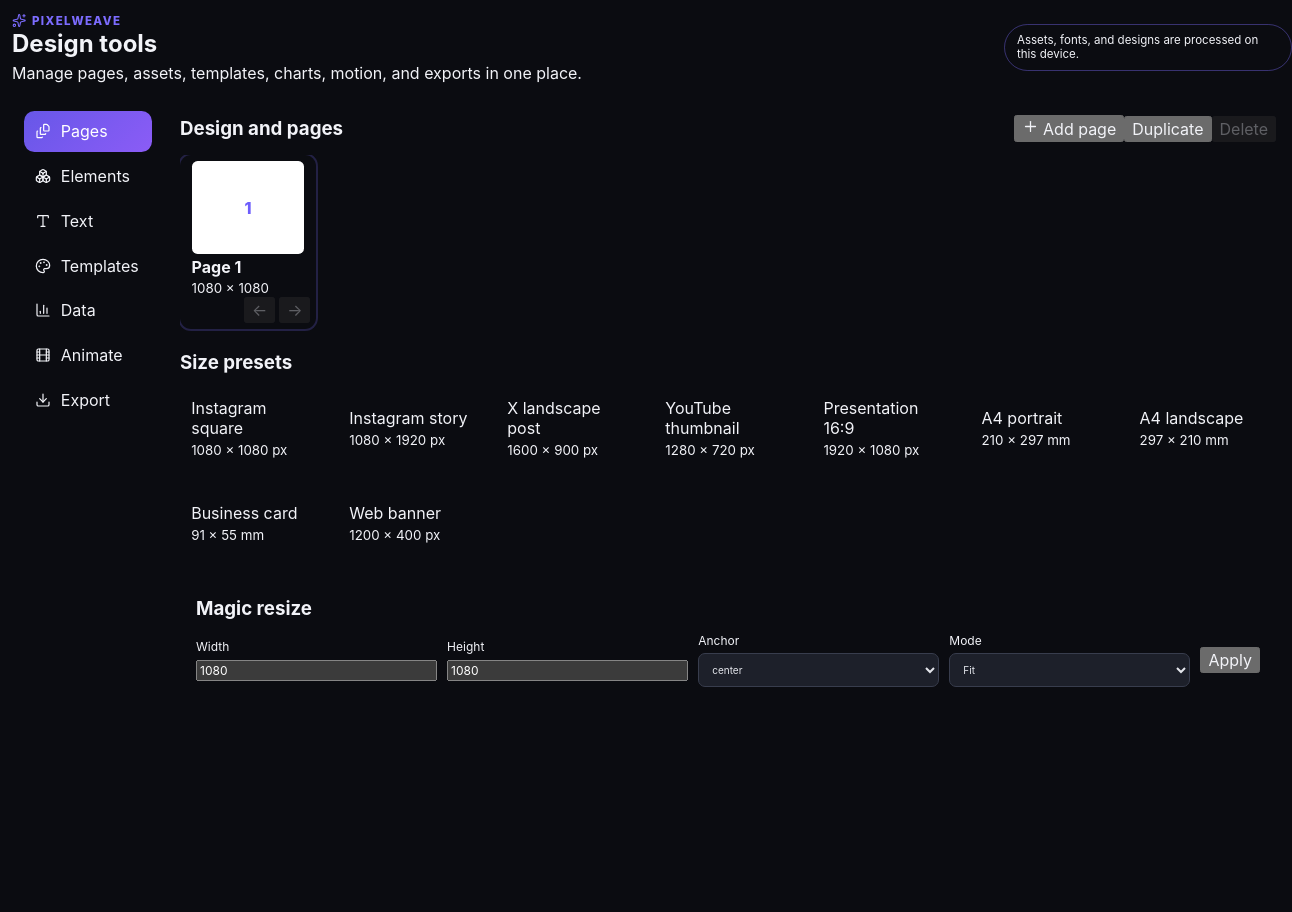
DesignStudioPanel › explains raster PDF output and passes lossless or JPEG quality explicitly
The image size is (1292, 912).
Click the button "Export" at {"x": 88, "y": 400}, box [24,380,152,420]
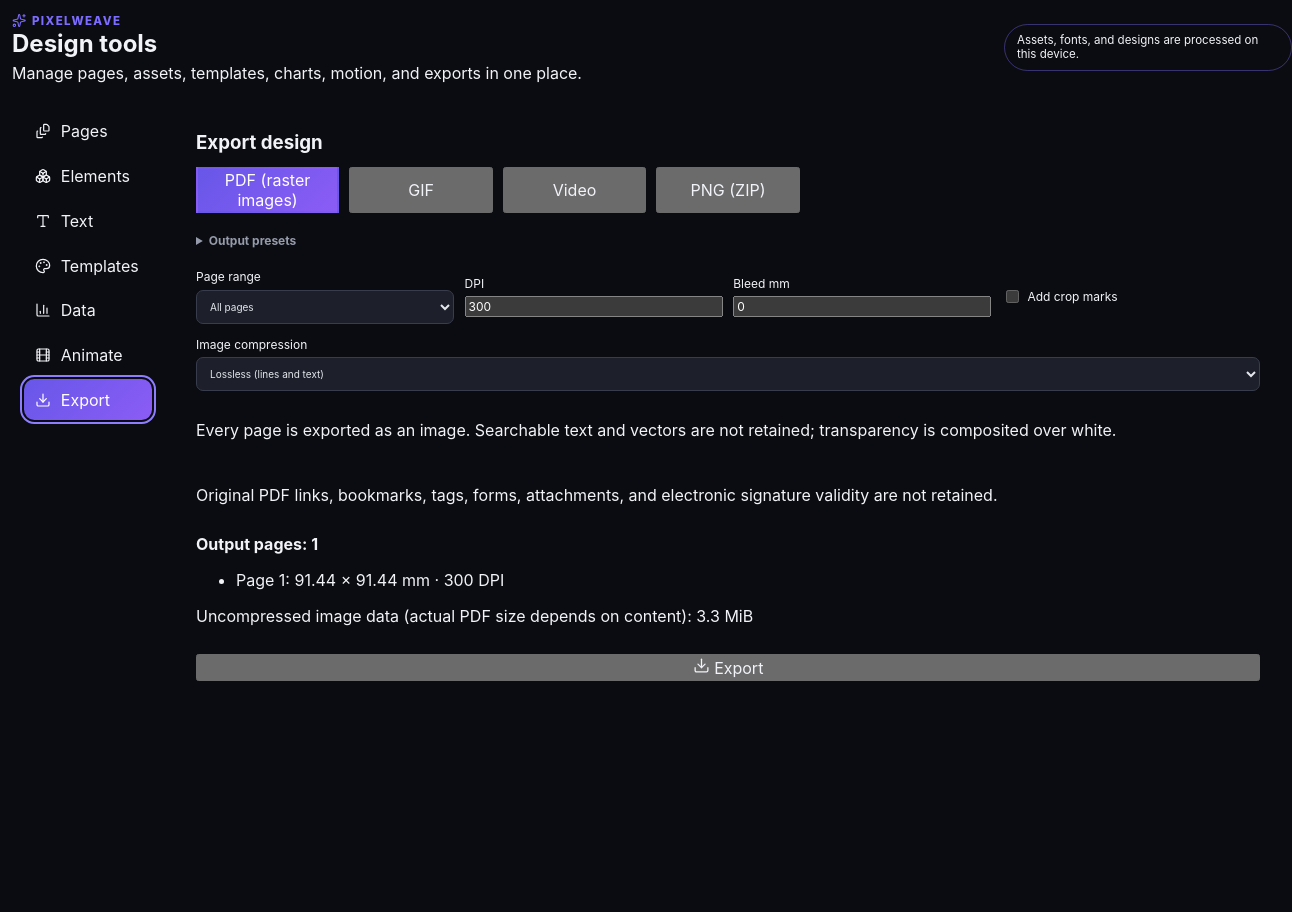
Now the text "Every page is exported as an image" is shown, box [196,420,1116,440]
Now the text "electronic signature validity" is shown, box [196,485,998,505]
Click the button "Export" below "3.3" at {"x": 728, "y": 668}, box [196,654,1260,681]
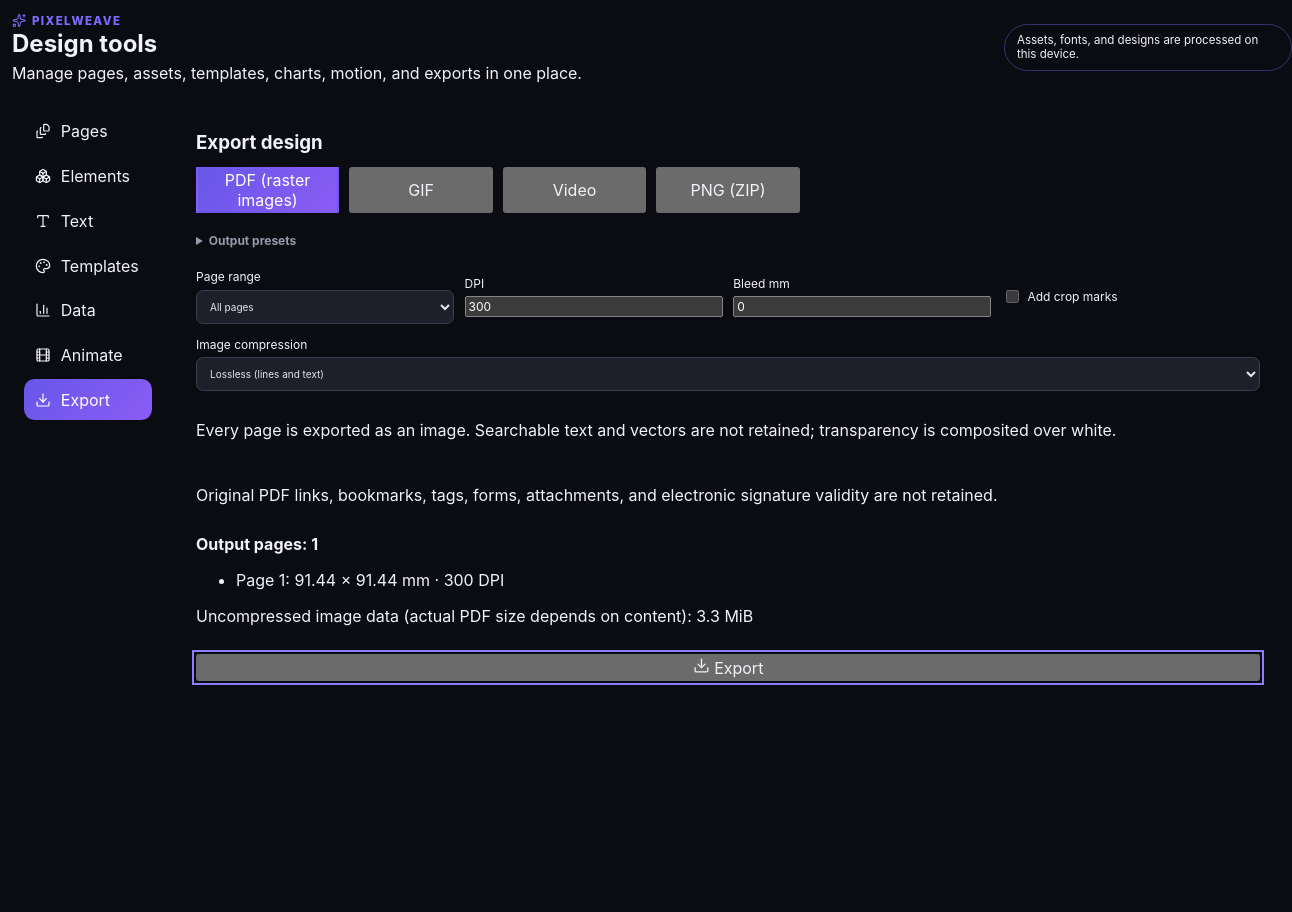
Select "JPEG (photos)" in the dropdown labelled "Image compression" at {"x": 728, "y": 374}, box [196,357,1260,391]
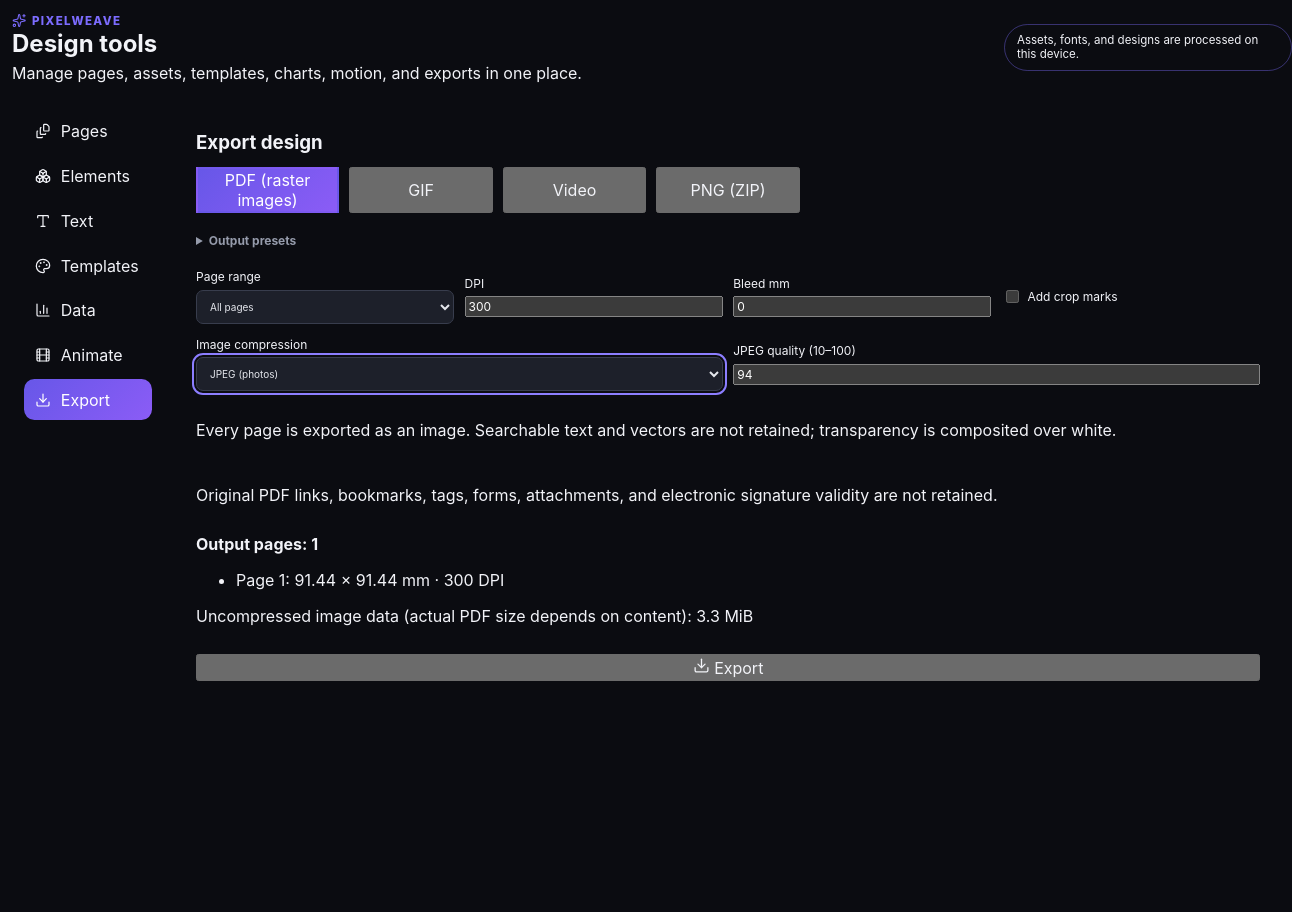
Replace the text in the number field labelled "JPEG quality (10–100)" with "80" at {"x": 997, "y": 374}, box [733,364,1260,385]
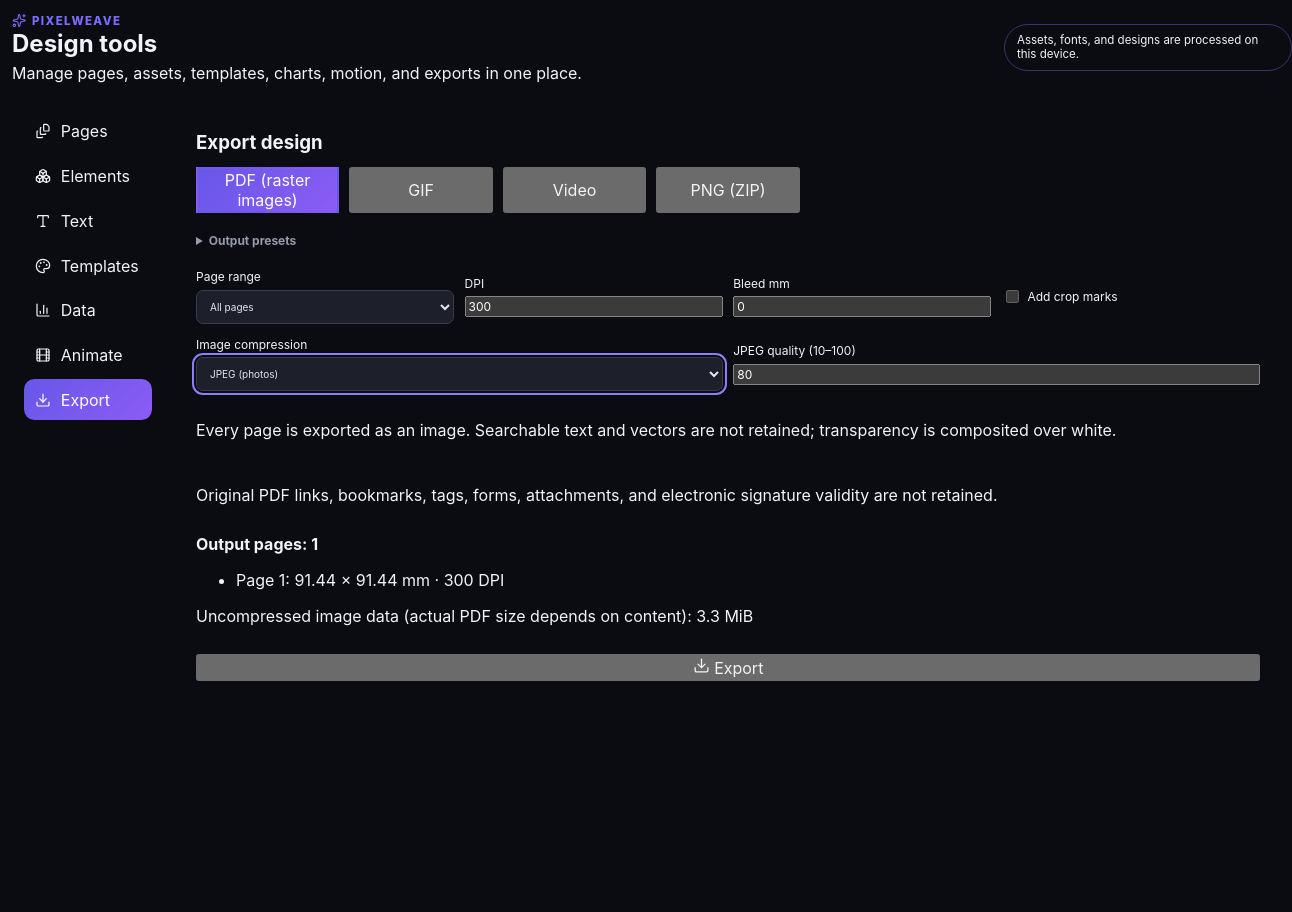
Click the button "Export" below "3.3" at {"x": 728, "y": 668}, box [196,654,1260,681]
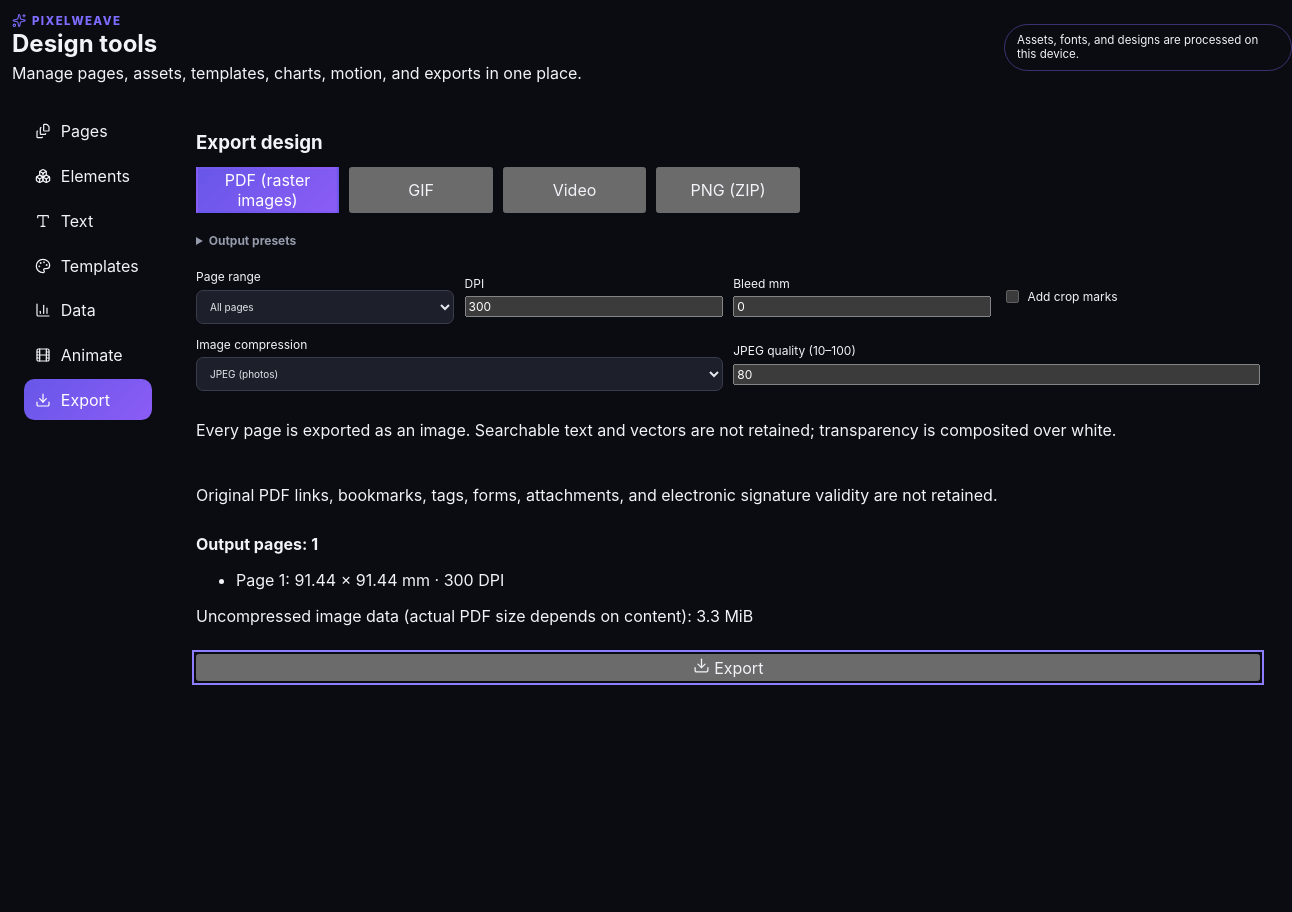
Replace the text in the number field labelled "JPEG quality (10–100)" with "0" at {"x": 997, "y": 374}, box [733,364,1260,385]
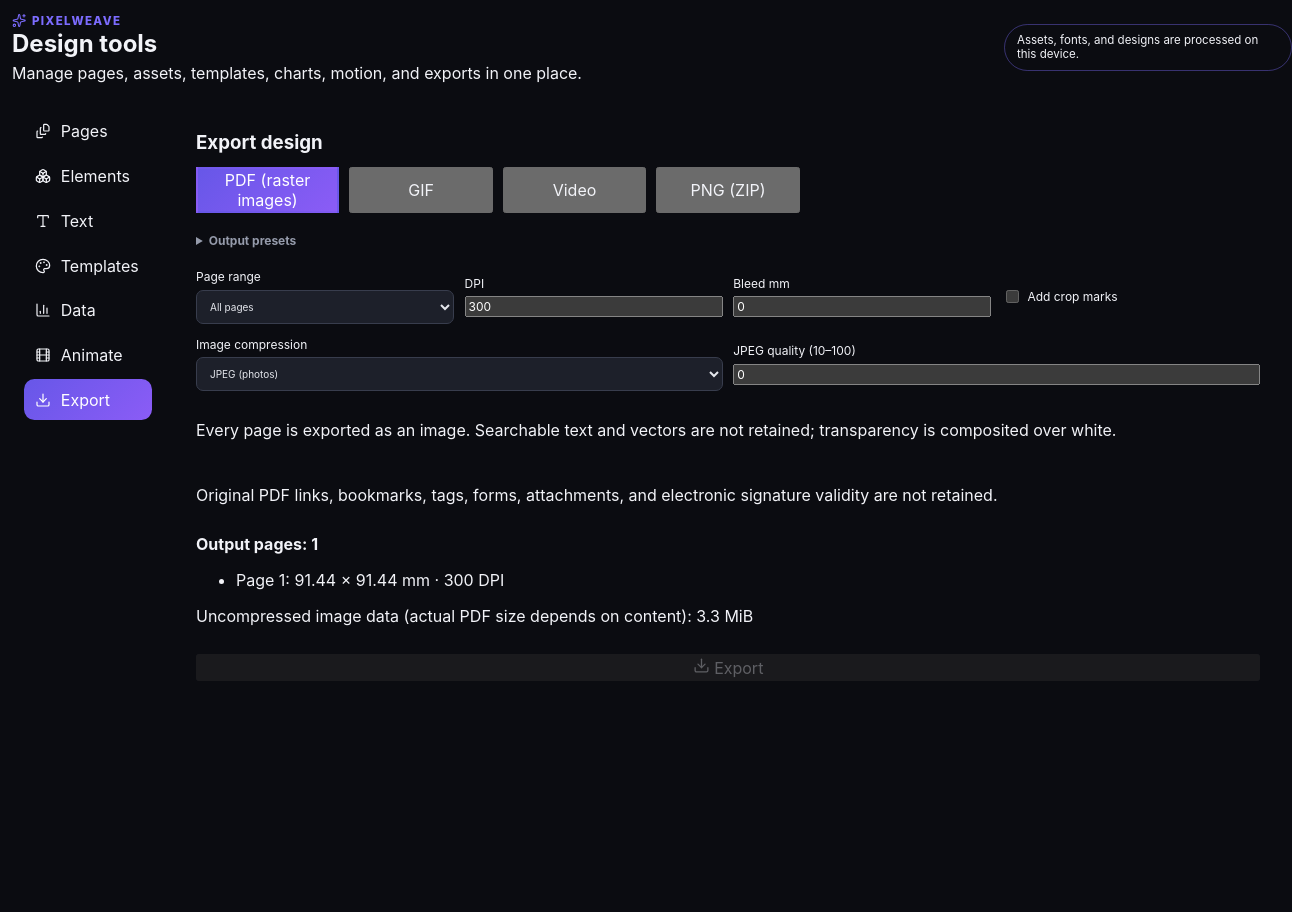
Now the button "Export" below "3.3" is disabled, box [196,654,1260,681]
